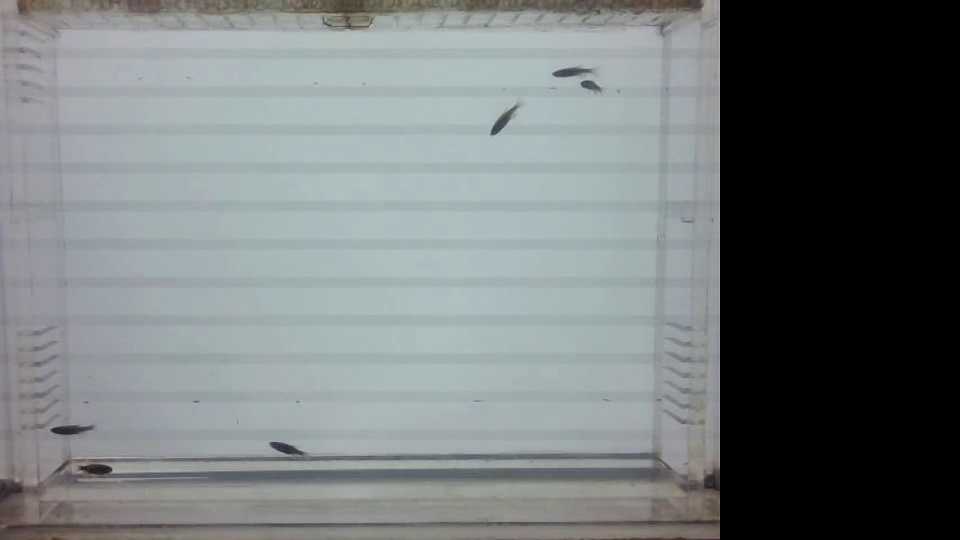fish: (476, 100, 524, 137), (44, 420, 100, 441), (68, 456, 121, 478), (264, 436, 310, 460), (572, 76, 605, 97), (544, 66, 596, 78)
